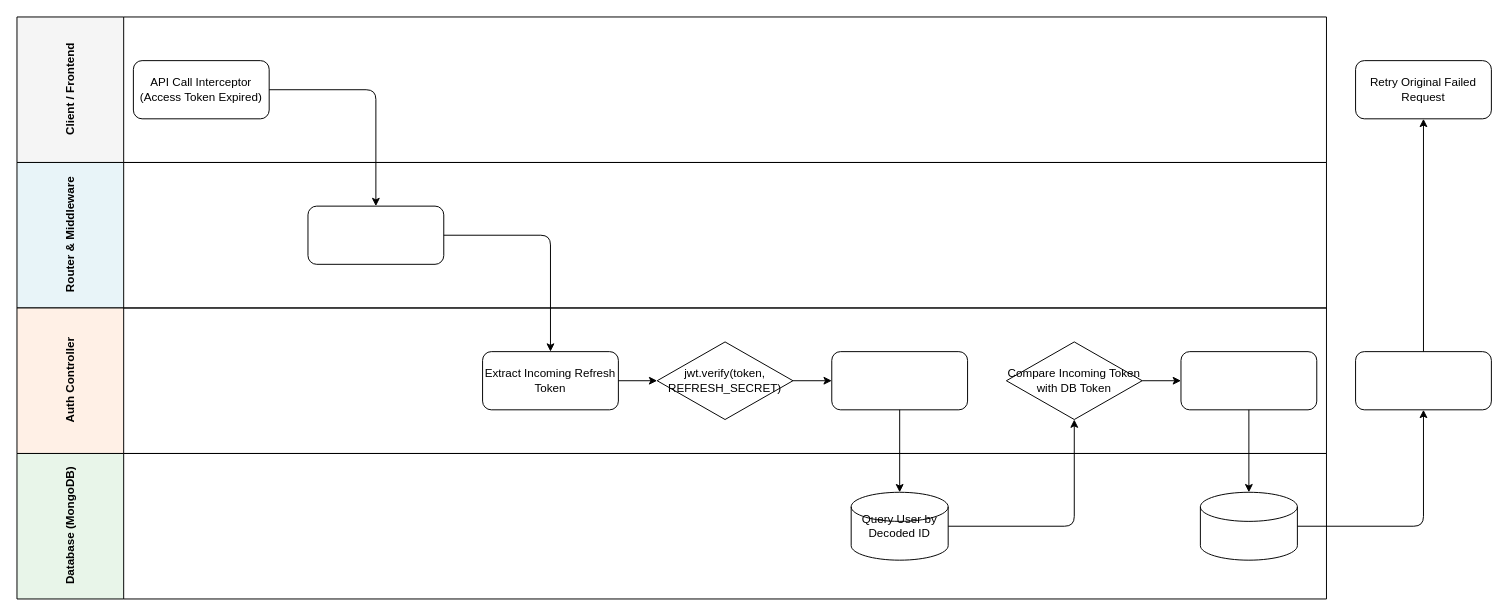
Image size: 1508x616. Some labels were removed from this diagram. The centre of each missing label's shape, as x and y in pixels:
generateAccessAndRefreshTokens(): the point at 1248,380
HTTP 200 OK & Set Cookies: the point at 1423,380
POST /refresh-token: the point at 375,234
Save New Refresh Token in DB: the point at 1248,525
User.findById(decoded._id): the point at 899,380
